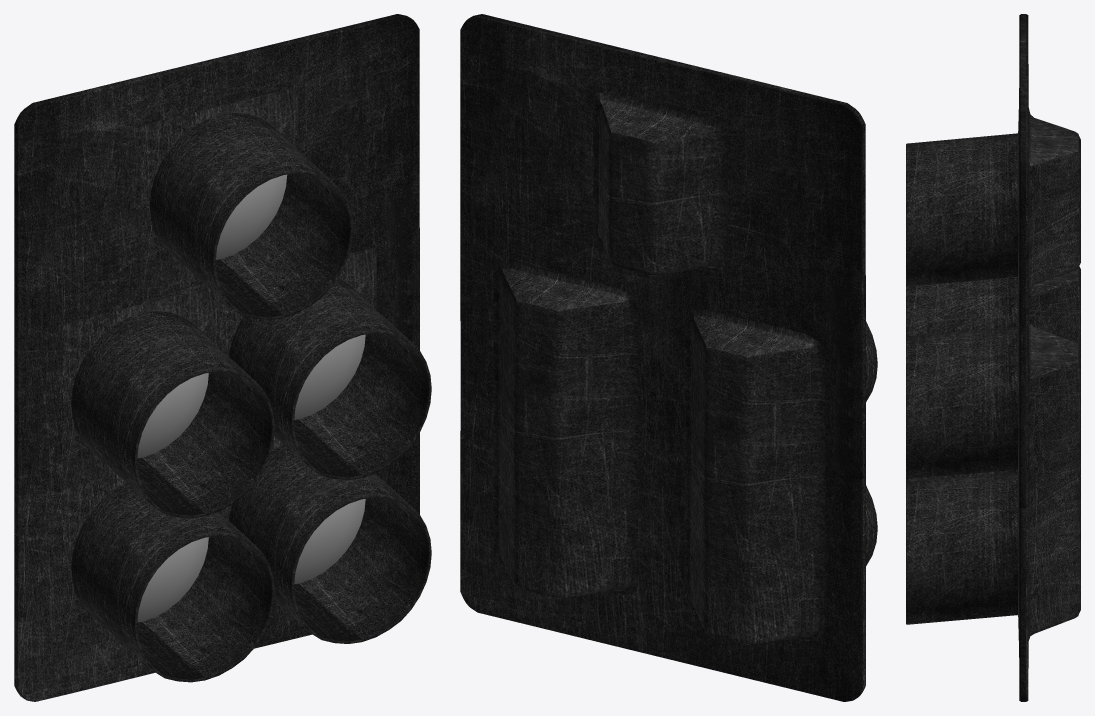
The model's file is TrafficSignalVerticalFullConeBlack5.fbx.
3 views of the same model, side by side, from view 1: azimuth 30°, elevation 25°; view 2: azimuth 150°, elevation 25°; view 3: azimuth 270°, elevation 25° (orthographic). The views are drawn at different scales.
Visible parts, largest first — view 1: Casing, SignalLight1, SignalLight3, SignalLight2, SignalLight4, SignalLight0; view 2: Casing; view 3: Casing.
Part boxes in pixels (x1=…): Casing: x1=14, y1=14, x2=431, y2=701; SignalLight1: x1=137, y1=373, x2=208, y2=458; SignalLight3: x1=137, y1=537, x2=208, y2=622; SignalLight2: x1=294, y1=334, x2=365, y2=419; SignalLight4: x1=294, y1=499, x2=365, y2=583; SignalLight0: x1=216, y1=174, x2=287, y2=259; Casing: x1=460, y1=14, x2=877, y2=701; Casing: x1=906, y1=14, x2=1080, y2=701.
Bounding box in the file's own units: 1.06 × 1.5 × 0.4504.
